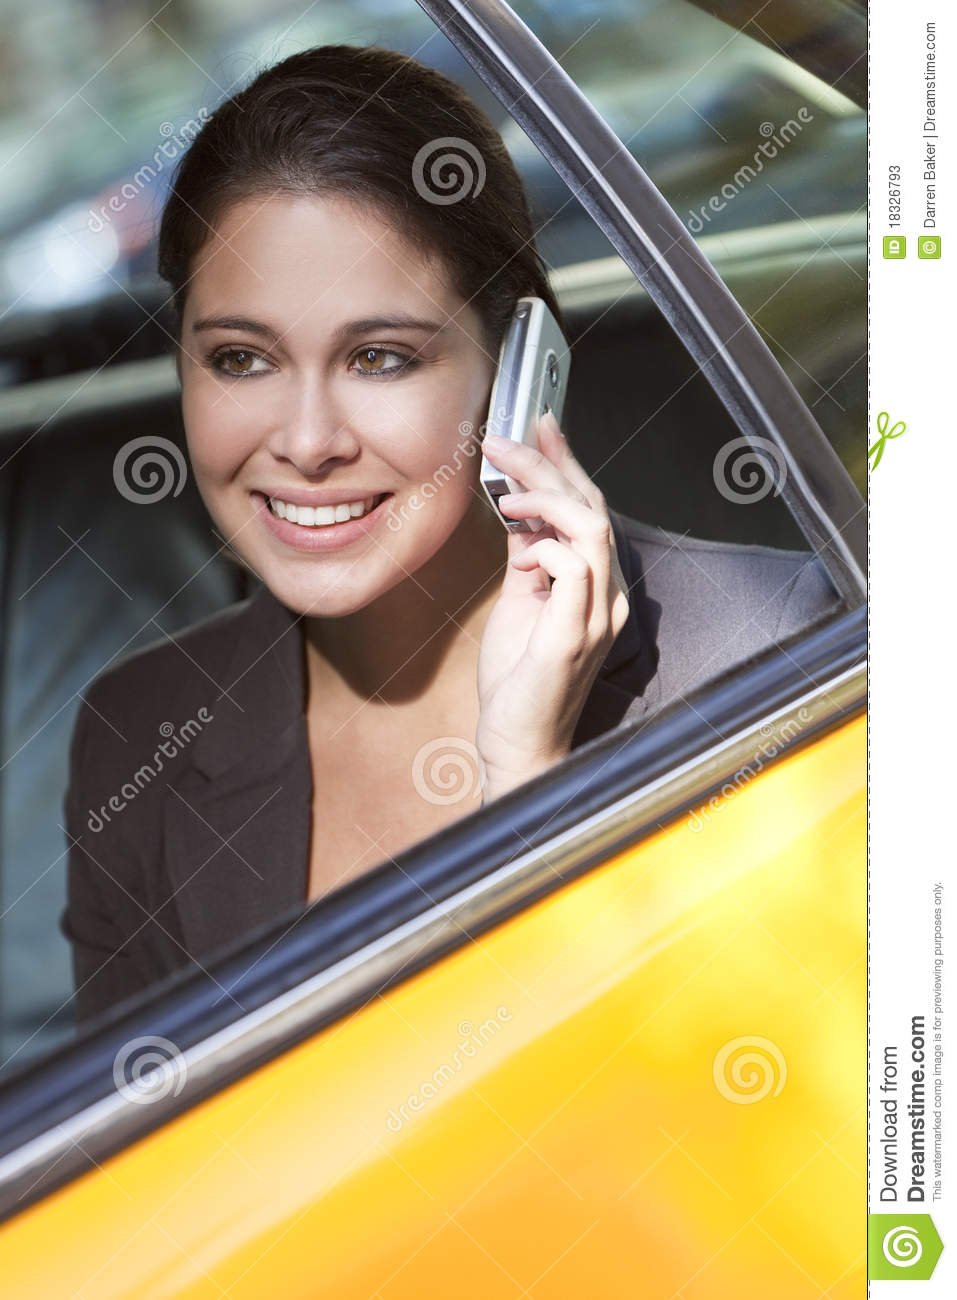phone: (480, 285, 574, 543)
talk: (176, 280, 630, 794)
